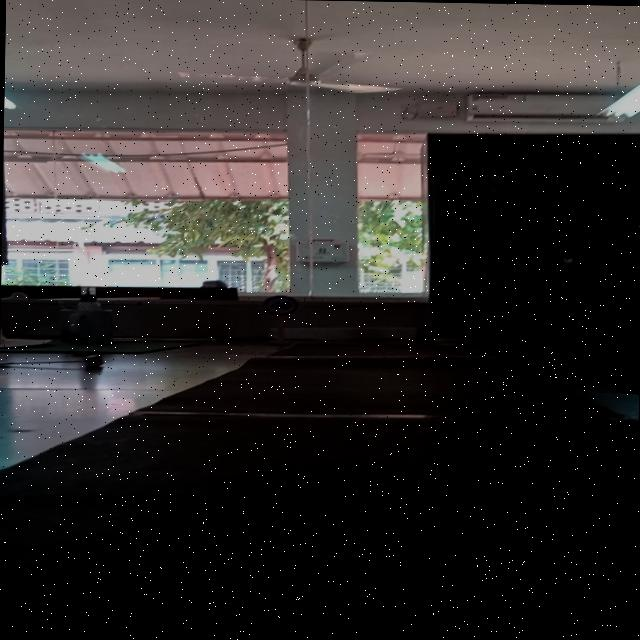Speed40: (260, 294, 300, 316)
